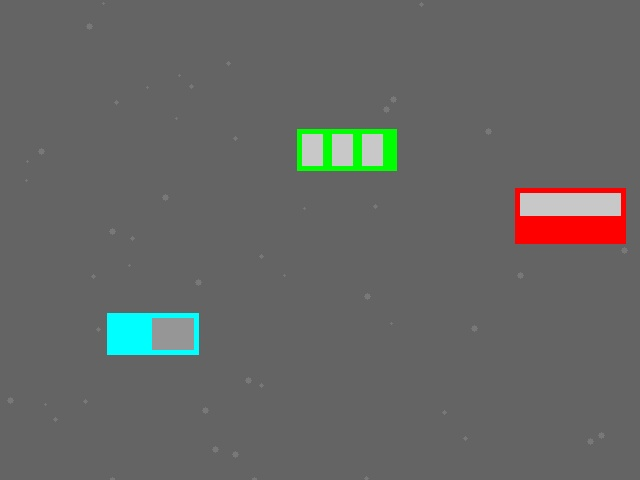bus: (297, 129, 396, 170)
car: (515, 188, 625, 243)
truck: (107, 313, 198, 354)
